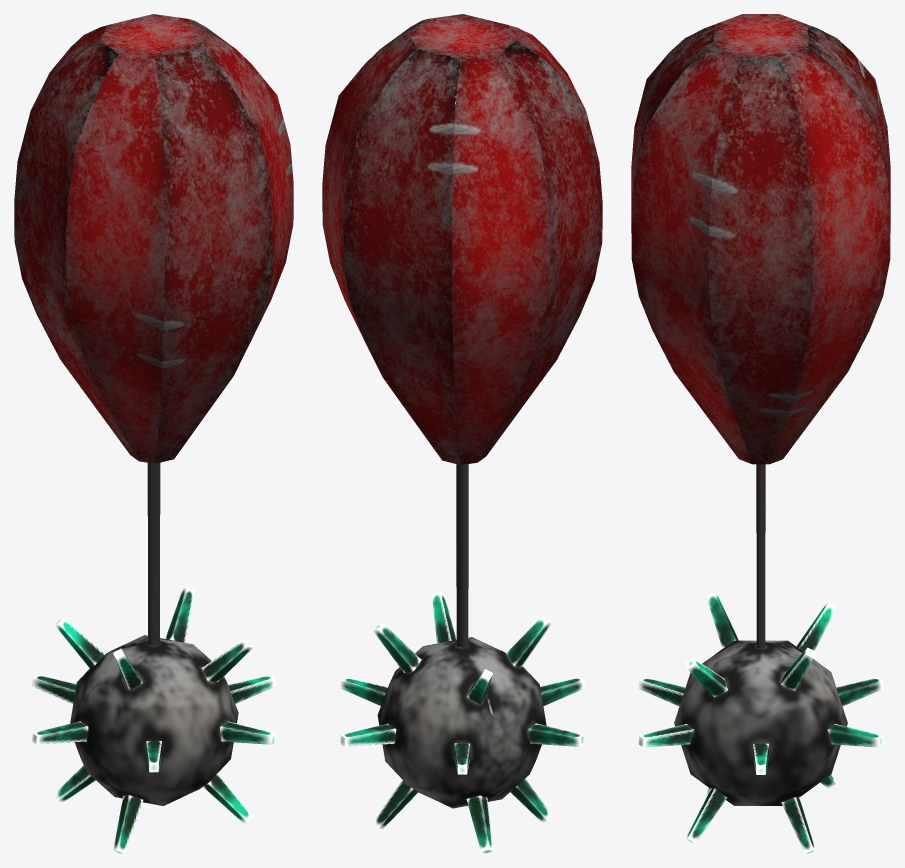
The model's file is bomb.gltf.
3 views of the same model, side by side, from view 1: azimuth 30°, elevation 25°; view 2: azimuth 150°, elevation 25°; view 3: azimuth 270°, elevation 25° (orthographic).
Parts seen in each view (by area): view 1: SM_FlyBomb001; view 2: SM_FlyBomb001; view 3: SM_FlyBomb001.
Part boxes in pixels (x1,y1,x2,y2): SM_FlyBomb001: (14,14,293,853); SM_FlyBomb001: (322,14,602,853); SM_FlyBomb001: (631,14,890,853).
Bounding box in the file's own units: 0.4228 × 1.33 × 0.3945.
1 material, 1 textured.
